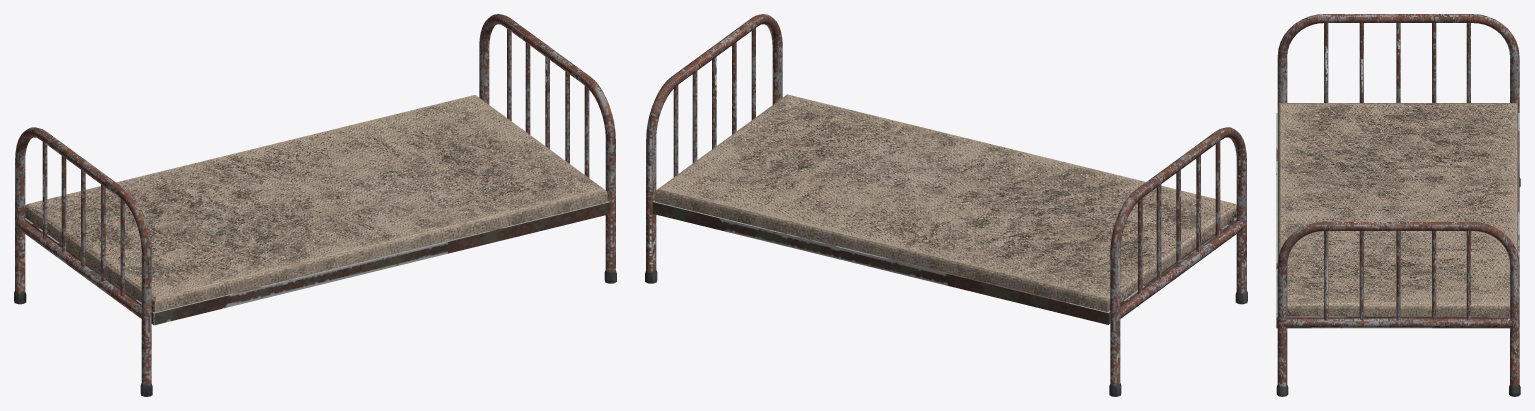
File: prison_bed.glb
The picture shows the model from 3 angles, left to right: view 1: azimuth 30°, elevation 25°; view 2: azimuth 150°, elevation 25°; view 3: azimuth 270°, elevation 25°; orthographic projection. The views are drawn at different scales.
Parts seen in each view (by area): view 1: Object_2; view 2: Object_2; view 3: Object_2.
Part boxes in pixels (x1,y1,x2,y2): Object_2: (14,14,616,396); Object_2: (645,14,1247,396); Object_2: (1276,14,1520,396).
Bounding box in the file's own units: 2.1 × 0.7931 × 1.02.
1 material, 1 textured.
